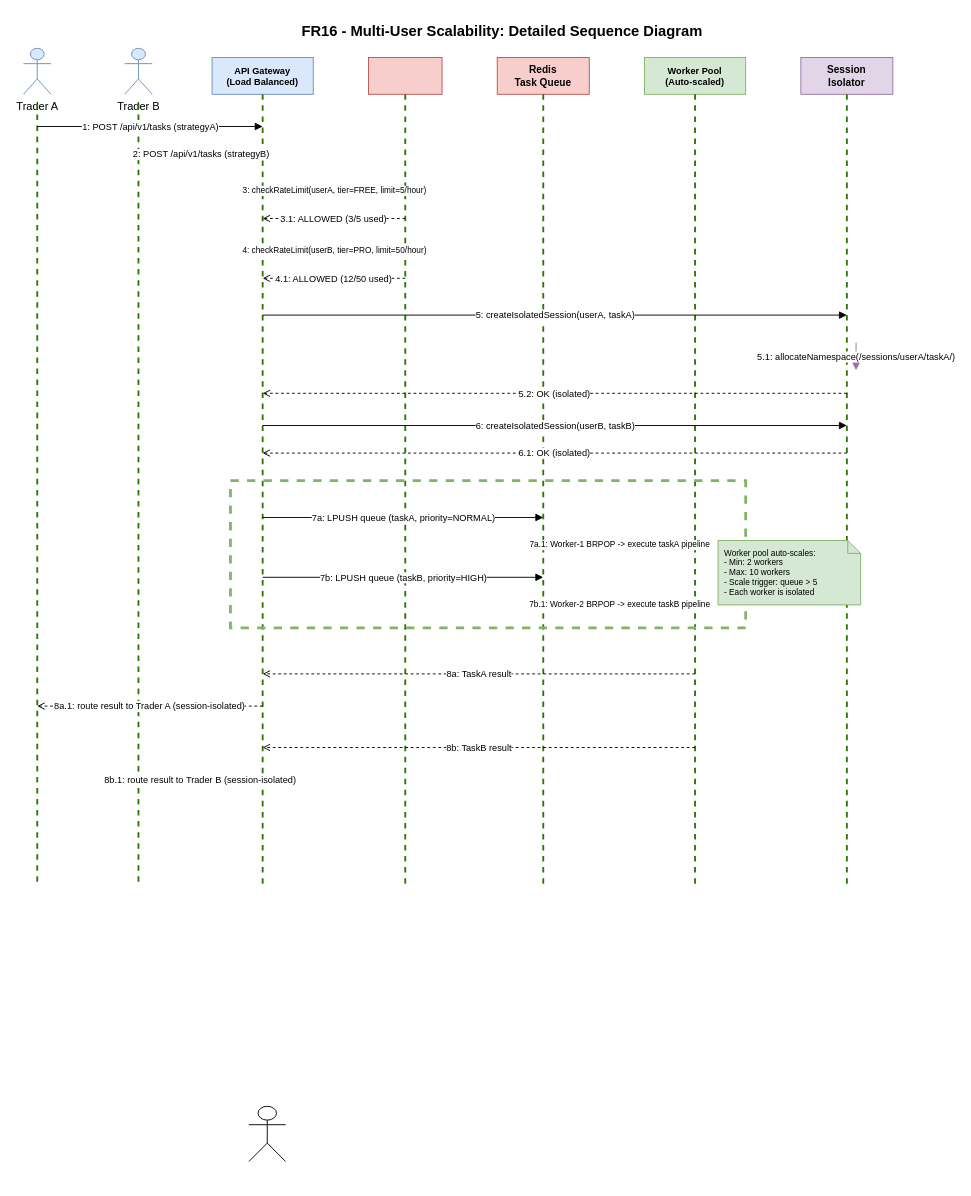
This 971x1196 diagram has some shape labels left out. The shapes that lost their labels are listed below. From the top down, each one's centre as x and y in pixels, then its label:
point (405, 75): Rate Limiter
point (488, 554): par [Concurrent task execution]
point (267, 1133): Actor
